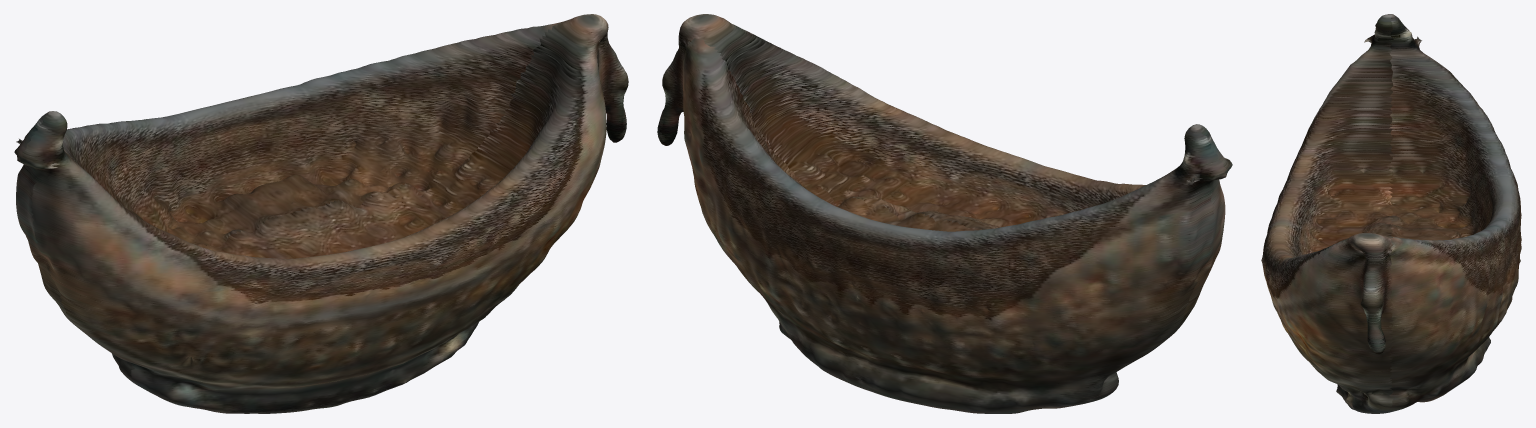
Rendered from kfl-2228.glb.
3 views of the same model, side by side, from view 1: azimuth 30°, elevation 25°; view 2: azimuth 150°, elevation 25°; view 3: azimuth 270°, elevation 25° (orthographic). The views are drawn at different scales.
Parts seen in each view (by area): view 1: geometry_0; view 2: geometry_0; view 3: geometry_0.
Boxes of the visible parts, x1,y1,x2,y2 form: geometry_0: (14, 14, 628, 413); geometry_0: (657, 14, 1232, 413); geometry_0: (1261, 14, 1521, 413).
Bounding box in the file's own units: 0.9903 × 0.5339 × 0.4746.
Materials: 1 (1 with a texture image).
